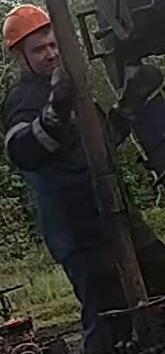gloves: (112, 64, 163, 128), (37, 69, 78, 137)
helmet: (2, 3, 51, 50)
vest: (4, 79, 114, 241)
